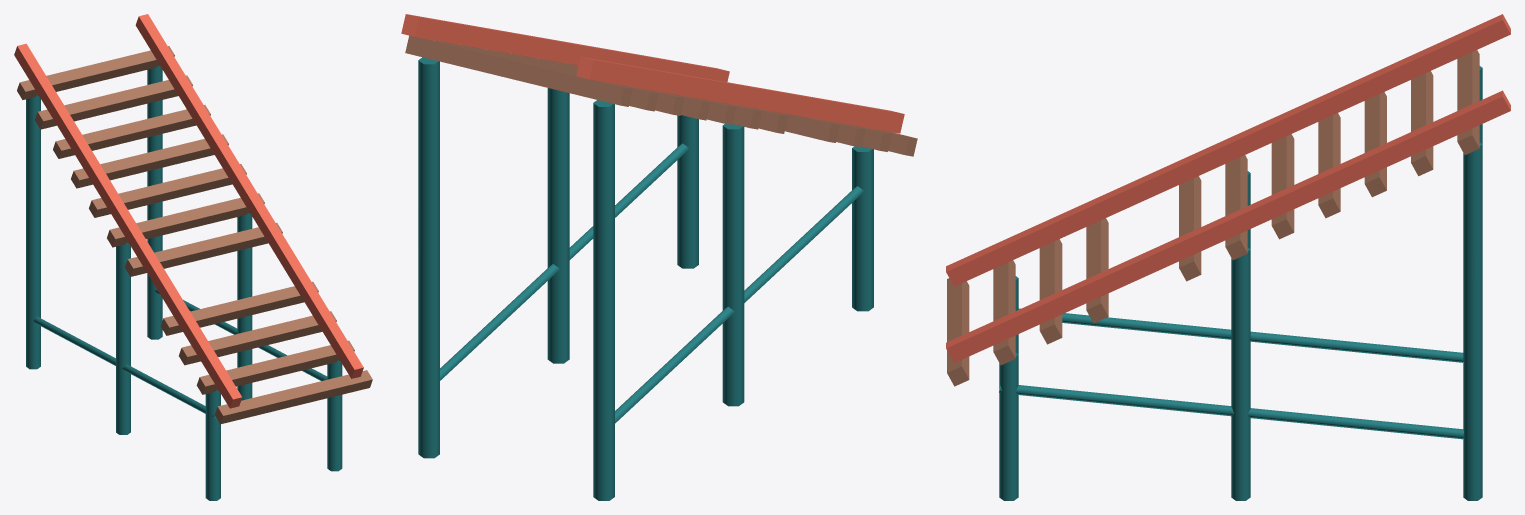
Rendered from track_slope_down.glb.
3 views of the same model, side by side, from view 1: azimuth 30°, elevation 25°; view 2: azimuth 150°, elevation 25°; view 3: azimuth 270°, elevation 25° (orthographic). The views are drawn at different scales.
Visible parts, largest first — view 1: track_slope_down; view 2: track_slope_down; view 3: track_slope_down.
Part boxes in pixels (x1,y1,x2,y2): track_slope_down: [14, 14, 372, 500]; track_slope_down: [401, 14, 917, 500]; track_slope_down: [946, 14, 1510, 500].
Size of the model in its own units: 1.6 by 3.2 by 4.06.
